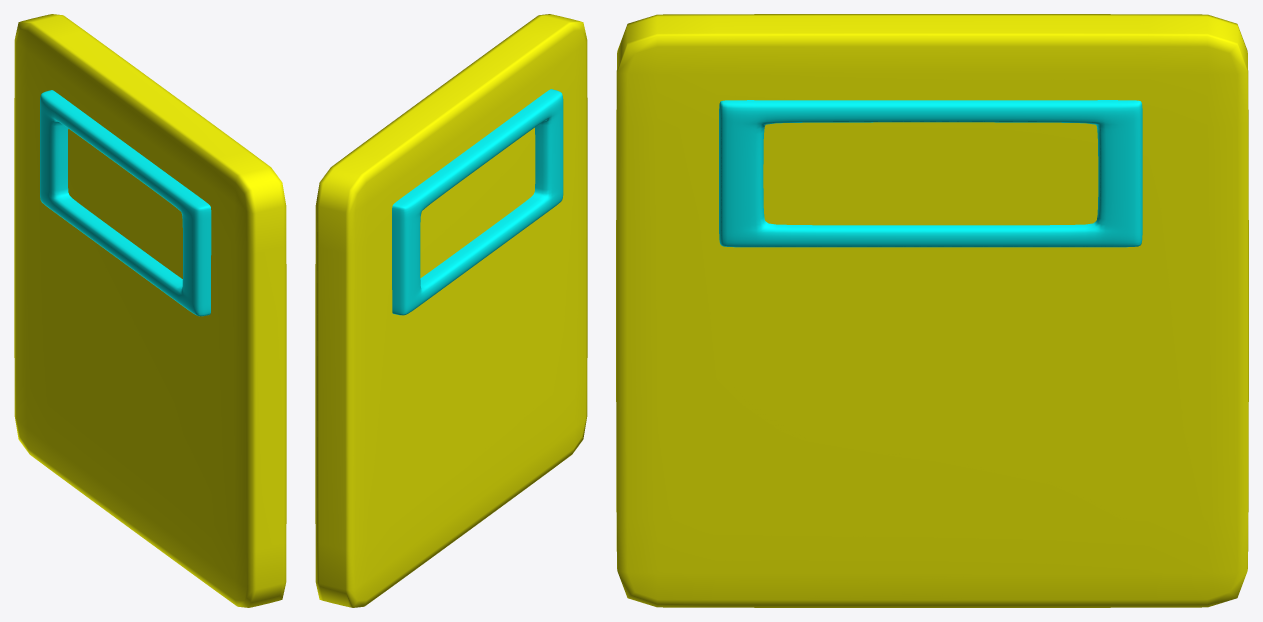
3 views of the same model, side by side, from view 1: azimuth 30°, elevation 25°; view 2: azimuth 150°, elevation 25°; view 3: azimuth 270°, elevation 25° (orthographic). The views are drawn at different scales.
Visible parts, largest first — view 1: polySurface973; view 2: polySurface973; view 3: polySurface973.
Part boxes in pixels (bbox=[...]): polySurface973: bbox=[14, 14, 286, 607]; polySurface973: bbox=[315, 14, 587, 607]; polySurface973: bbox=[616, 14, 1248, 607].
Size of the model in its own units: 0.1498 by 0.9994 by 0.9994.
